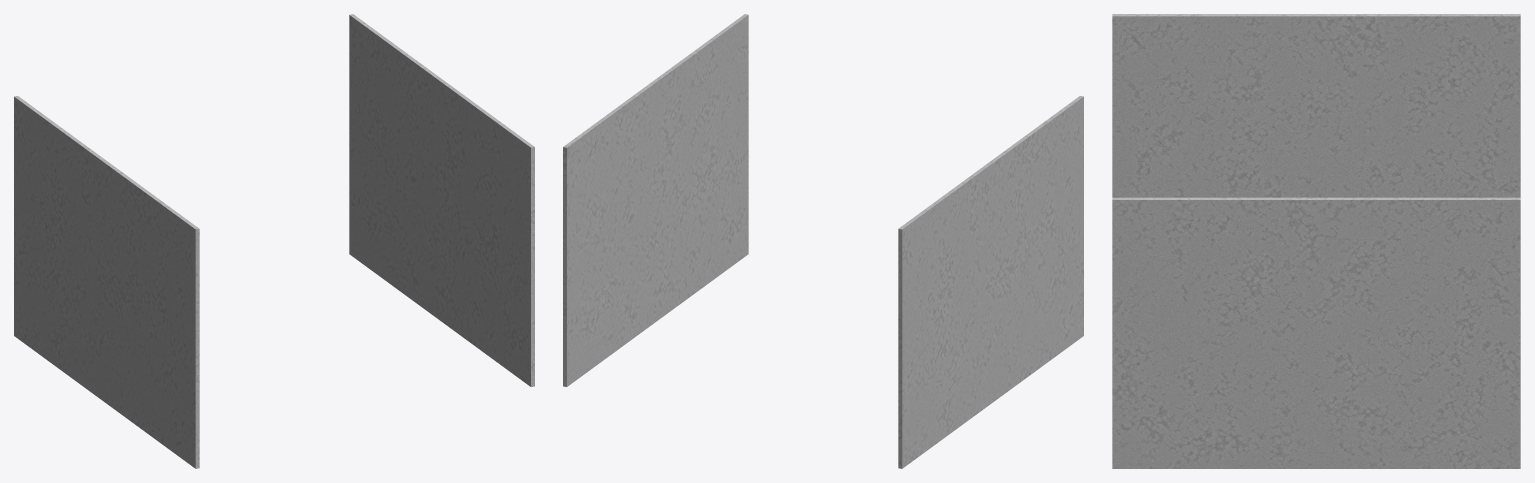
The model's file is wall_leftright.FBX.
3 views of the same model, side by side, from view 1: azimuth 30°, elevation 25°; view 2: azimuth 150°, elevation 25°; view 3: azimuth 270°, elevation 25° (orthographic). The views are drawn at different scales.
Parts seen in each view (by area): view 1: Box024, Object001; view 2: Box024, Object001; view 3: Object001, Box024.
Boxes of the visible parts, x1,y1,x2,y2 form: Box024: (14,96,199,468); Object001: (349,14,534,386); Box024: (898,96,1083,468); Object001: (563,14,748,386); Object001: (1112,197,1520,468); Box024: (1112,14,1520,197).
Bounding box in the file's own units: 3343 × 2257 × 3103.
